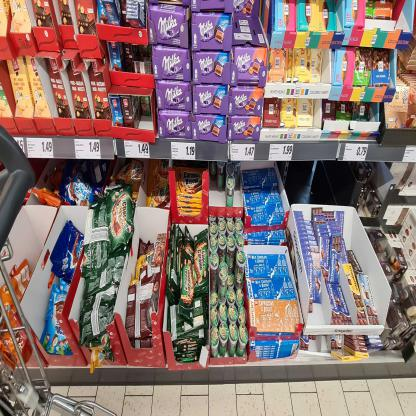prtg: (27, 139, 55, 159), (75, 140, 102, 160), (125, 141, 151, 159), (172, 143, 196, 161), (270, 145, 295, 162), (344, 145, 369, 162), (232, 145, 256, 161), (403, 147, 416, 164), (14, 138, 26, 155)
